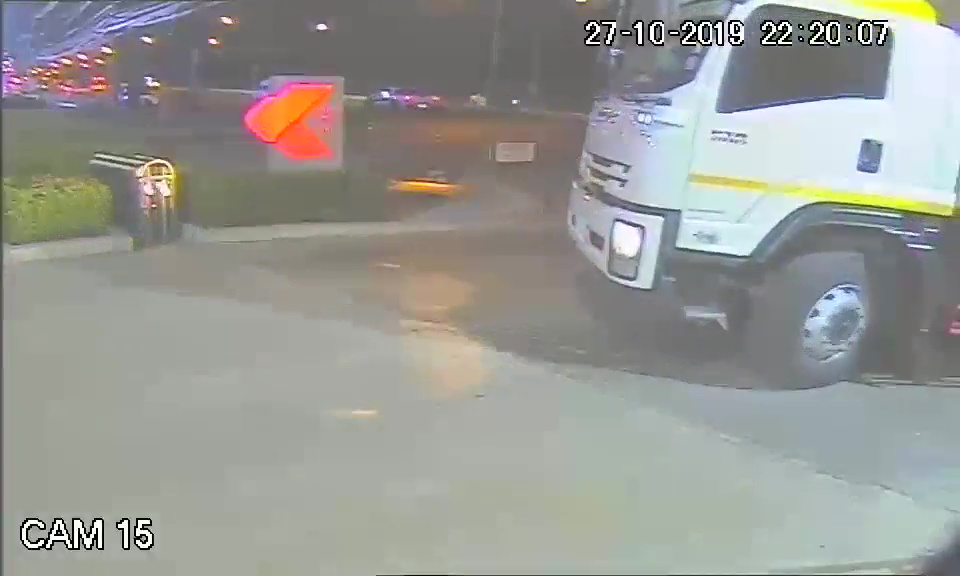truck: (566, 1, 943, 385)
